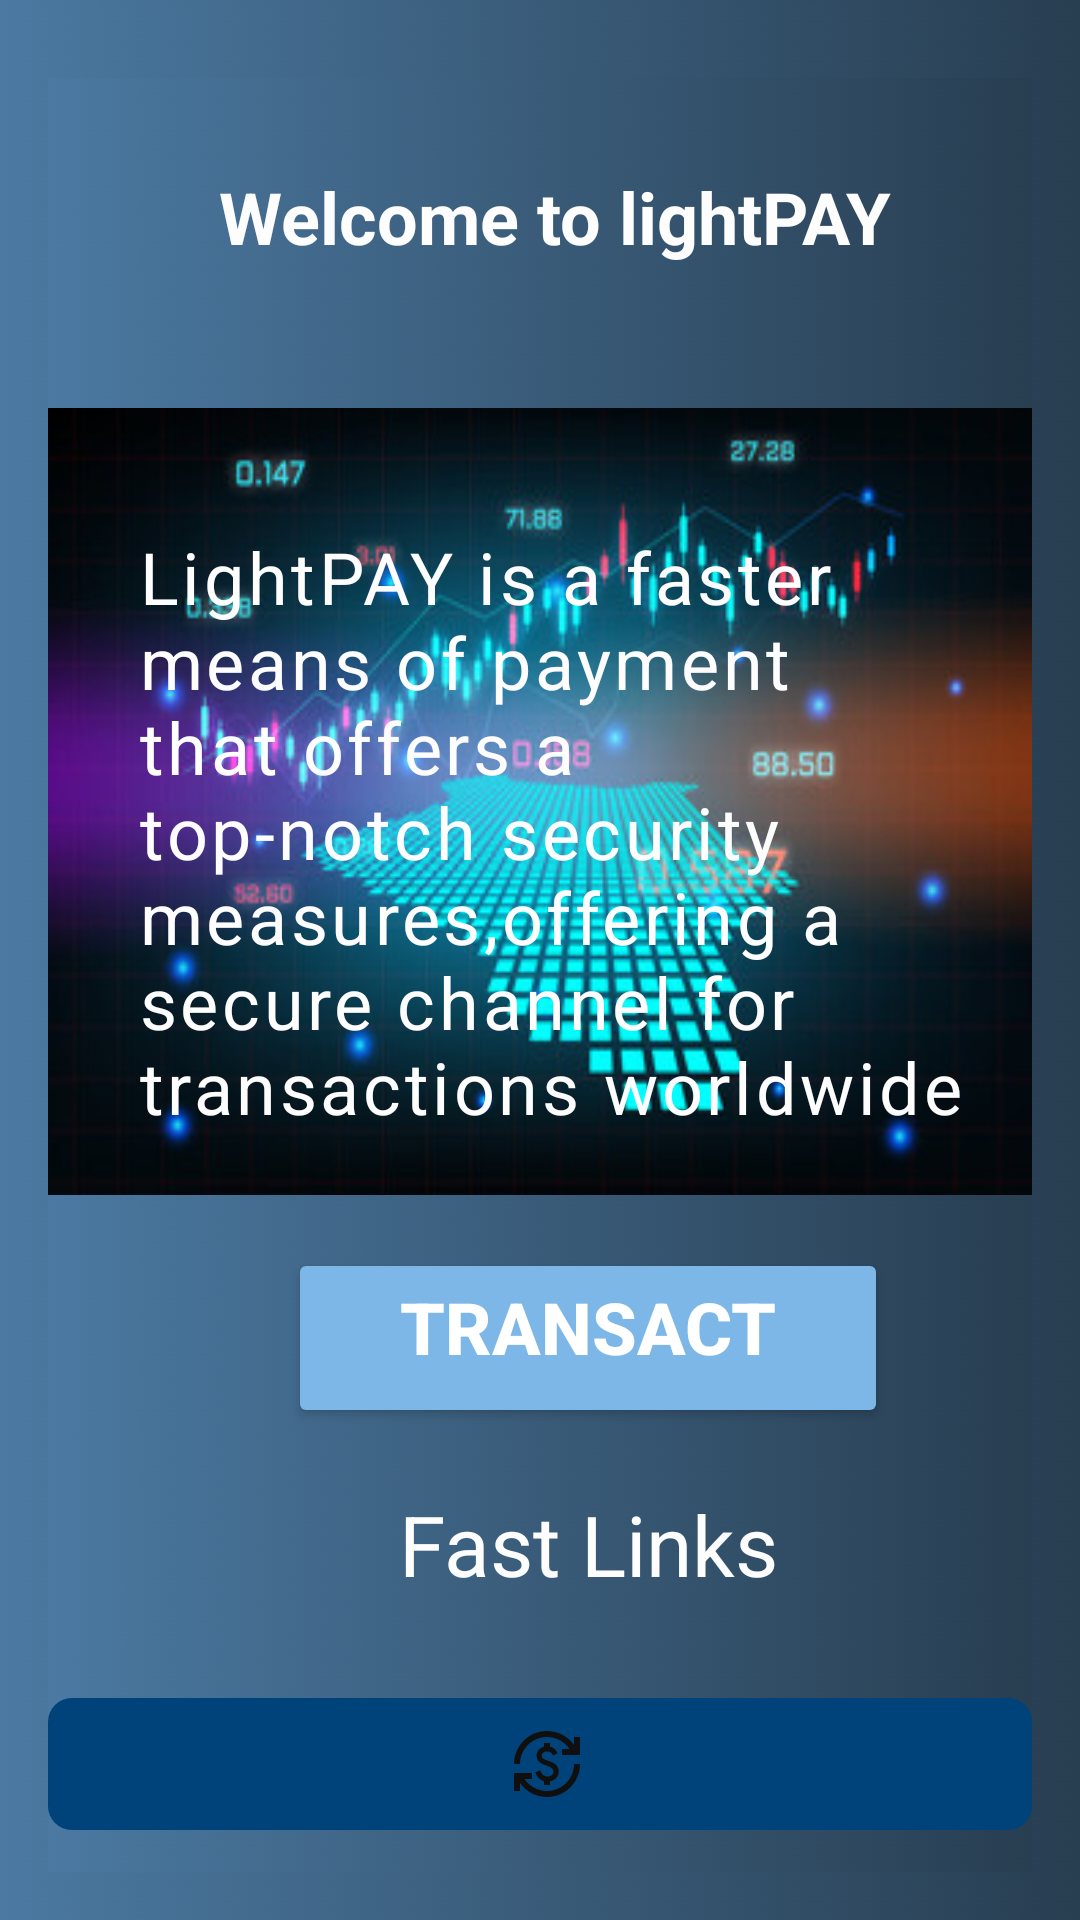

Where to tap for icons on this 1080px×1920px app screen, as point (x, y):
transfer: point (547, 1764)
